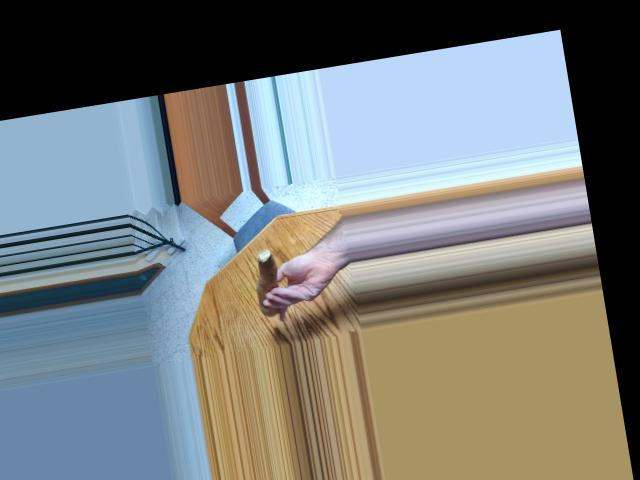sweet_potato: (248, 252, 288, 312)
